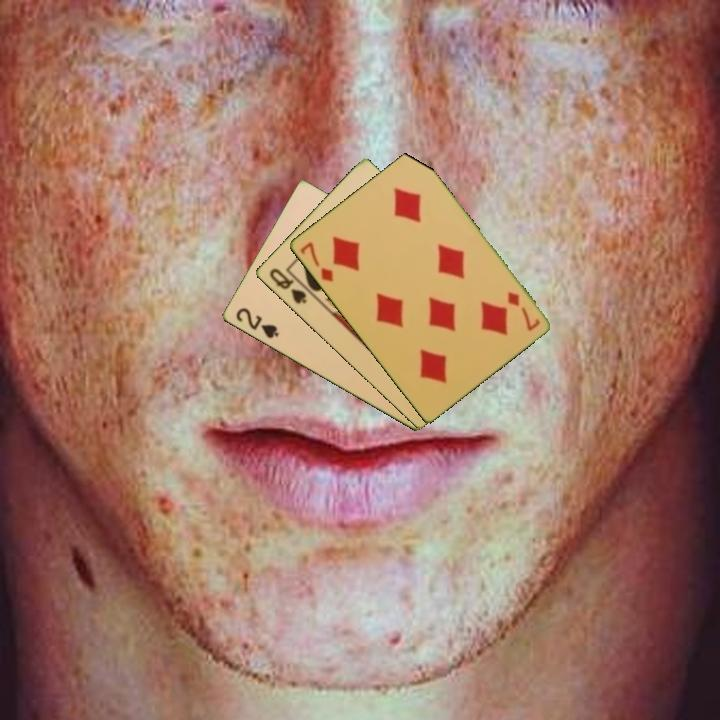2s: (232, 304, 281, 342)
7d: (296, 238, 336, 285), (503, 288, 543, 334)
Qs: (265, 265, 309, 307)
